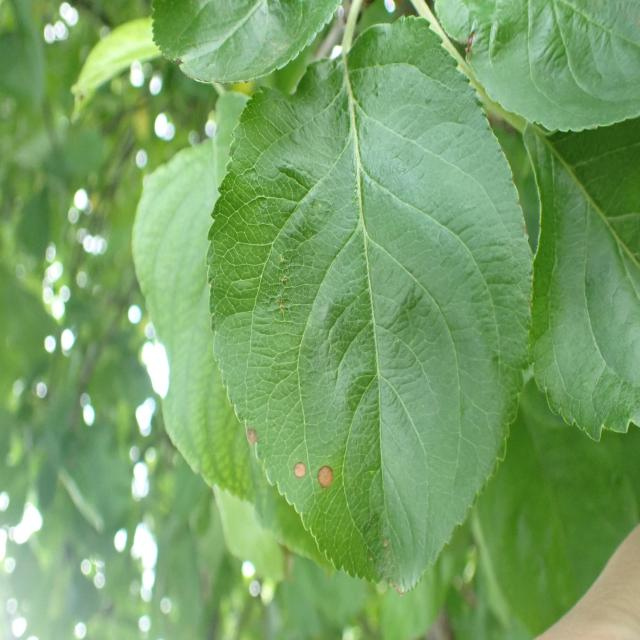frog-eye-leaf-spot: (205, 12, 535, 593)
